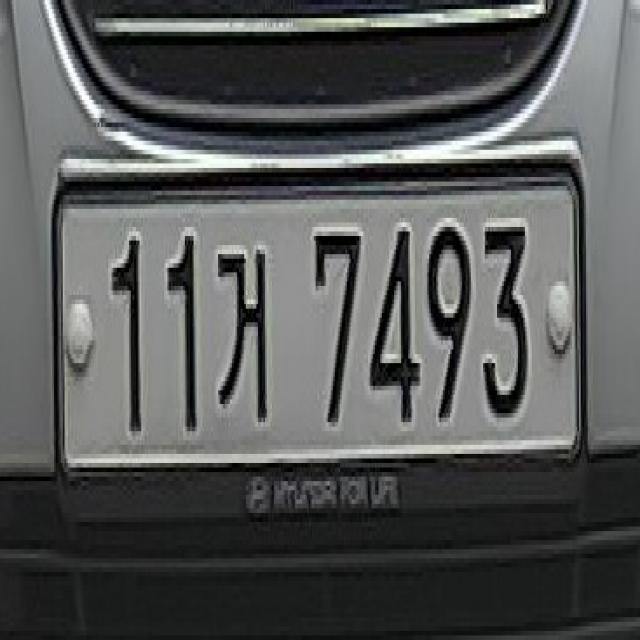1: (108, 228, 148, 444), (170, 218, 202, 440)
3: (481, 210, 543, 432)
4: (368, 214, 422, 431)
7: (311, 213, 366, 434)
9: (426, 214, 474, 436)
geo: (214, 227, 285, 433)
license_plate: (36, 146, 594, 480)
